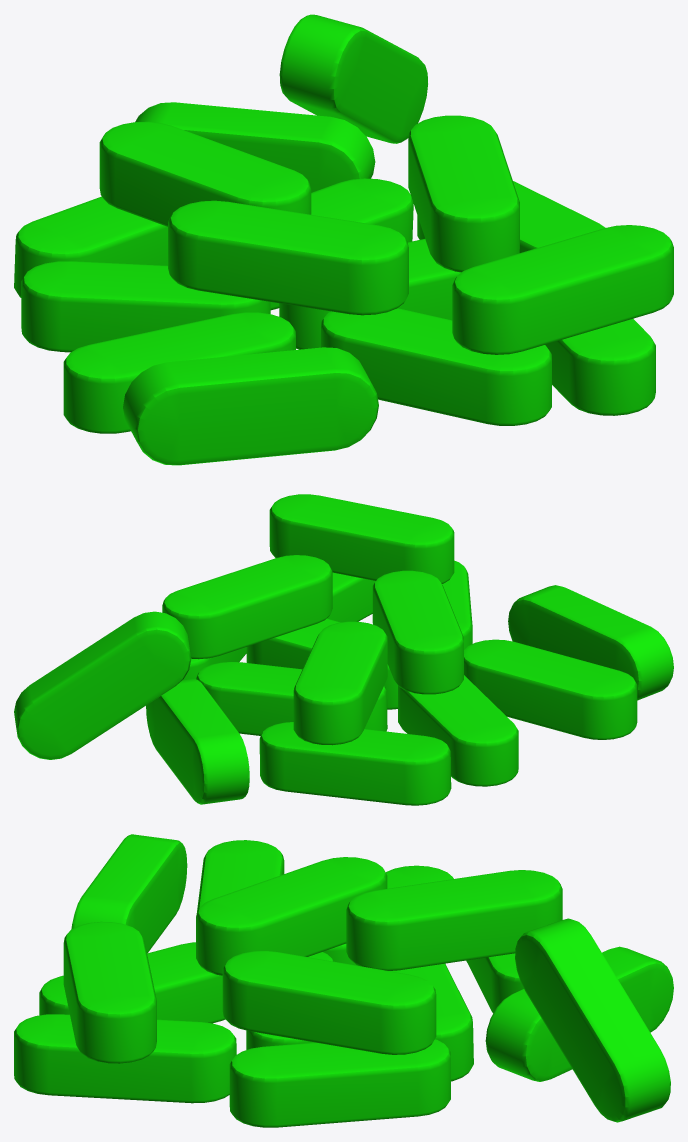
The model's file is Pills.FBX.
3 views of the same model, one above another, from view 1: azimuth 30°, elevation 25°; view 2: azimuth 150°, elevation 25°; view 3: azimuth 270°, elevation 25° (orthographic). The views are drawn at different scales.
Visible parts, largest first — view 1: polySurface5, polySurface13, polySurface15, polySurface9, polySurface14, polySurface2, polySurface12, polySurface16, polySurface4, polySurface8, polySurface10, polySurface3 (+3 smaller); view 2: polySurface16, polySurface3, polySurface4, polySurface15, polySurface12, polySurface5, polySurface14, polySurface13, polySurface8, polySurface2, polySurface6, polySurface7 (+3 smaller); view 3: polySurface16, polySurface12, polySurface14, polySurface11, polySurface10, polySurface13, polySurface15, polySurface8, polySurface5, polySurface9, polySurface4, polySurface6 (+3 smaller).
Boxes of the visible parts, x1,y1,x2,y2 form: polySurface5: [123, 347, 378, 465]; polySurface13: [168, 200, 408, 315]; polySurface15: [452, 225, 673, 354]; polySurface9: [321, 308, 551, 425]; polySurface14: [99, 121, 311, 226]; polySurface2: [21, 261, 270, 352]; polySurface12: [408, 115, 519, 272]; polySurface16: [279, 14, 427, 143]; polySurface4: [63, 312, 295, 433]; polySurface8: [135, 102, 375, 192]; polySurface10: [545, 319, 655, 415]; polySurface3: [14, 196, 167, 297]; polySurface16: [14, 611, 191, 759]; polySurface3: [259, 722, 451, 805]; polySurface4: [464, 639, 637, 739]; polySurface15: [269, 494, 454, 583]; polySurface12: [162, 555, 332, 659]; polySurface5: [508, 585, 673, 700]; polySurface14: [293, 621, 387, 745]; polySurface13: [372, 570, 463, 694]; polySurface8: [146, 679, 249, 804]; polySurface2: [398, 675, 518, 786]; polySurface6: [196, 662, 387, 735]; polySurface7: [246, 618, 397, 709]; polySurface16: [515, 918, 670, 1122]; polySurface12: [222, 951, 436, 1054]; polySurface14: [346, 870, 562, 970]; polySurface11: [229, 1039, 450, 1127]; polySurface10: [14, 1014, 236, 1103]; polySurface13: [196, 857, 387, 975]; polySurface15: [63, 921, 156, 1063]; polySurface8: [485, 946, 673, 1081]; polySurface5: [71, 834, 187, 953]; polySurface9: [39, 942, 225, 1023]; polySurface4: [197, 840, 284, 911]; polySurface6: [389, 963, 473, 1081].
Size of the model in its own units: 0.1473 by 0.0437 by 0.1645.
